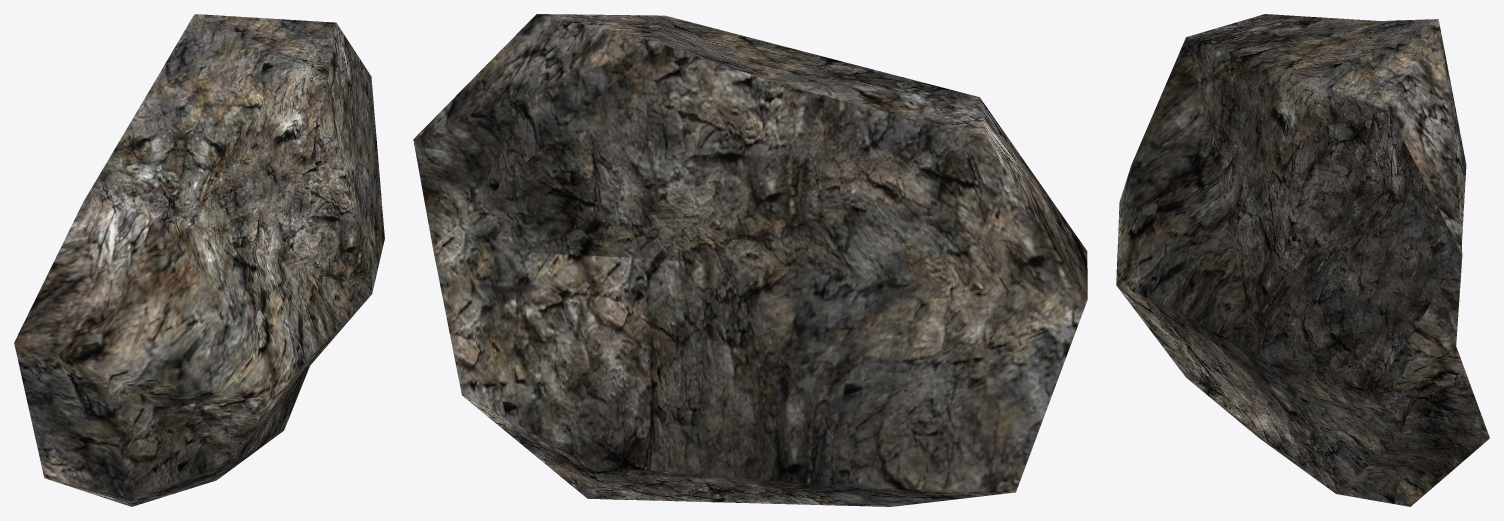
Rendered from pir_m_prp_cav_rock_c.fbx.
3 views of the same model, side by side, from view 1: azimuth 30°, elevation 25°; view 2: azimuth 150°, elevation 25°; view 3: azimuth 270°, elevation 25° (orthographic). The views are drawn at different scales.
Parts seen in each view (by area): view 1: lod_high; view 2: lod_high; view 3: lod_high.
Boxes of the visible parts, x1,y1,x2,y2 form: lod_high: (14, 14, 384, 506); lod_high: (413, 14, 1087, 506); lod_high: (1116, 14, 1489, 506).
Bounding box in the file's own units: 3423 × 2865 × 2154.
1 material, 1 textured.
